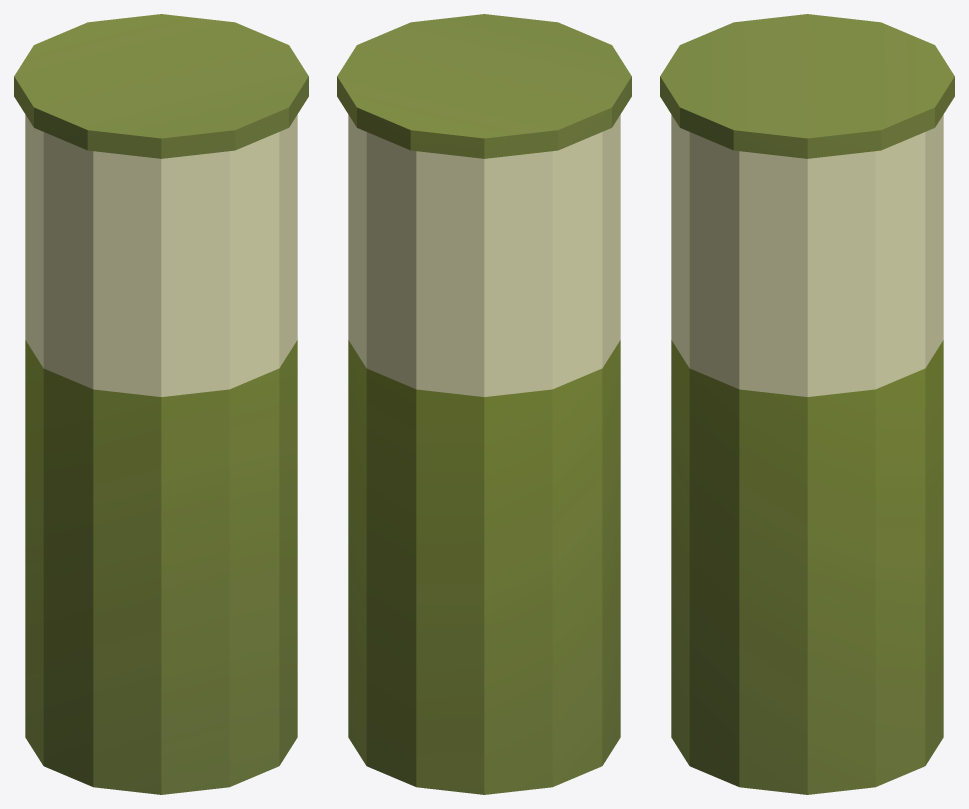
Rendered from Ürün72.fbx.
The picture shows the model from 3 angles, left to right: view 1: azimuth 30°, elevation 25°; view 2: azimuth 150°, elevation 25°; view 3: azimuth 270°, elevation 25°; orthographic projection.
Visible parts, largest first — view 1: pCylinder46; view 2: pCylinder46; view 3: pCylinder46.
Part boxes in pixels (box(x1,y1,x2,y2)): pCylinder46: box(14, 14, 308, 794); pCylinder46: box(337, 14, 631, 794); pCylinder46: box(660, 14, 954, 794).
Bounding box in the file's own units: 11.6 × 28.73 × 11.6.
